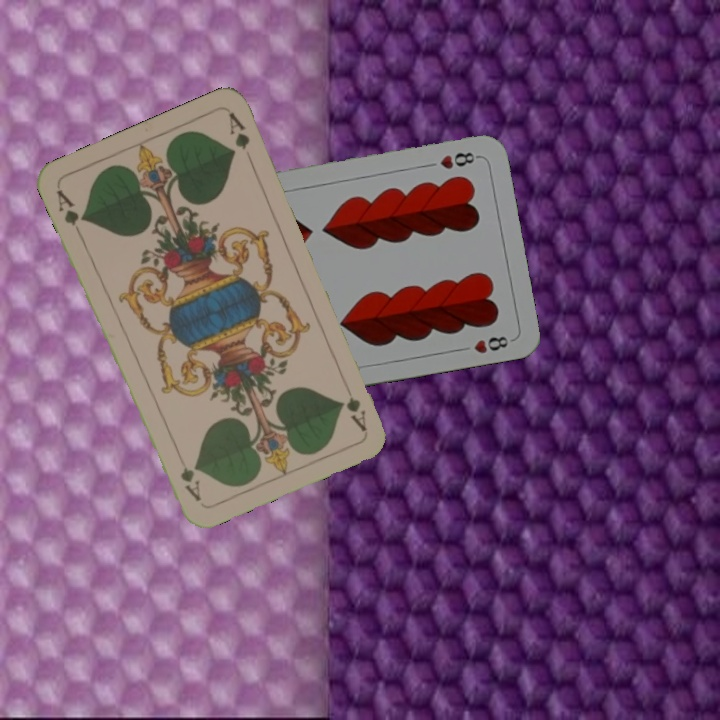GA: (52, 185, 88, 240), (342, 392, 369, 434)
H8: (436, 148, 482, 172)
